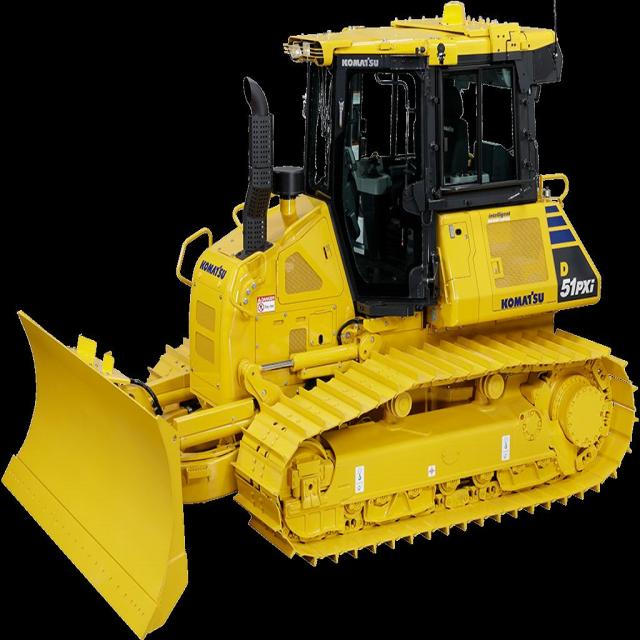Bulldozer: (14, 18, 592, 637)
